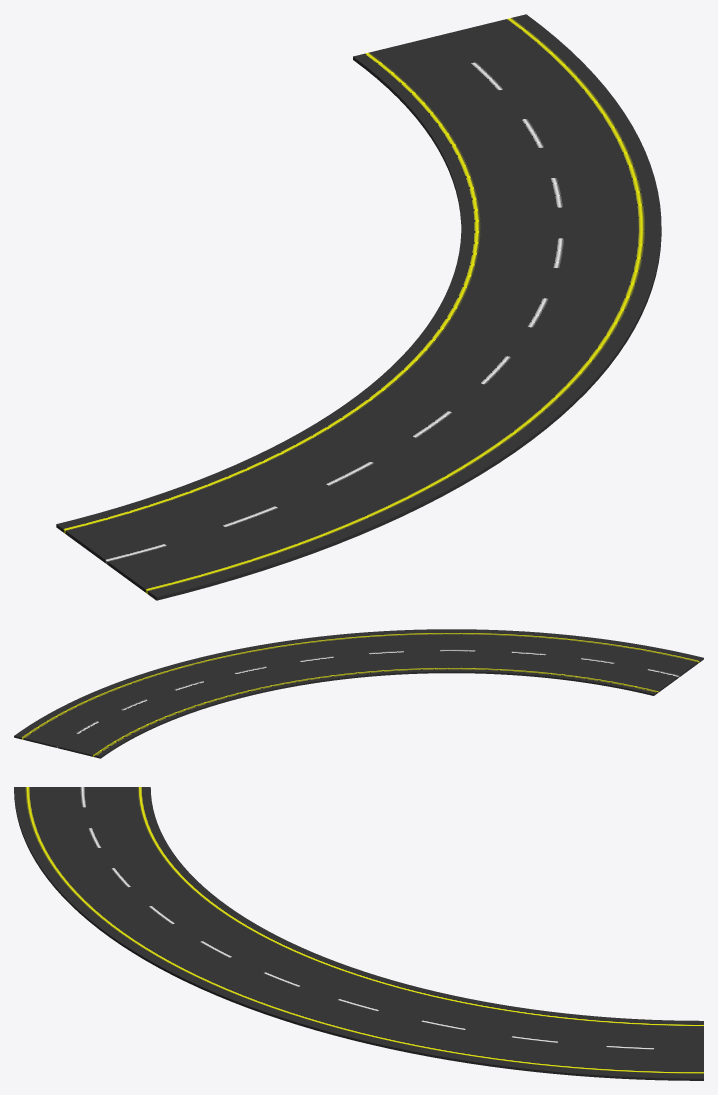
File: curved_road_50m.dae
The picture shows the model from 3 angles, top to bottom: view 1: azimuth 30°, elevation 25°; view 2: azimuth 150°, elevation 25°; view 3: azimuth 270°, elevation 25°; orthographic projection. The views are drawn at different scales.
Visible parts, largest first — view 1: Box001; view 2: Box001; view 3: Box001.
Part boxes in pixels (x1,y1,x2,y2): Box001: (56,14,661,600); Box001: (14,629,703,758); Box001: (14,787,703,1080).
Bounding box in the file's own units: 2184 × 2184 × 7.87.
Materials: 1 (1 with a texture image).
